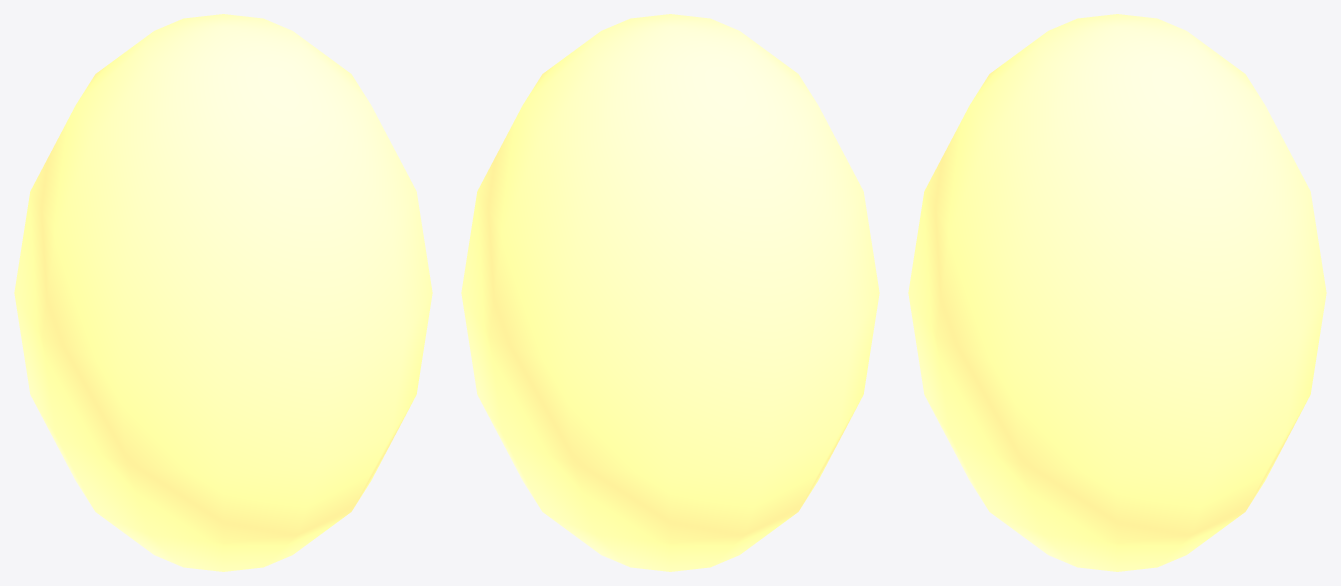
Rendered from mwm_fx_drop.glb.
3 views of the same model, side by side, from view 1: azimuth 30°, elevation 25°; view 2: azimuth 150°, elevation 25°; view 3: azimuth 270°, elevation 25° (orthographic).
Parts seen in each view (by area): view 1: Sphere; view 2: Sphere; view 3: Sphere.
Part boxes in pixels (x1,y1,x2,y2): Sphere: [14, 14, 432, 571]; Sphere: [461, 14, 879, 571]; Sphere: [908, 14, 1326, 571].
Size of the model in its own units: 1 by 1.4 by 1.
